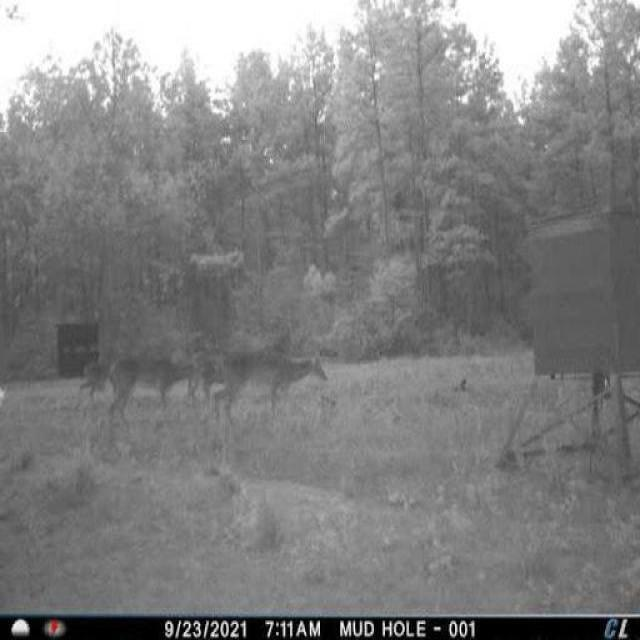deer: (106, 346, 215, 465), (220, 338, 334, 438), (82, 349, 116, 414)
